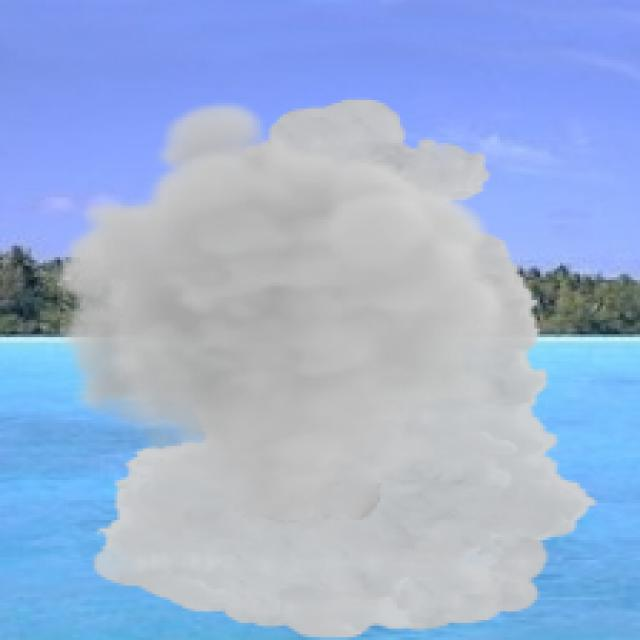smoke: (48, 97, 603, 637)
